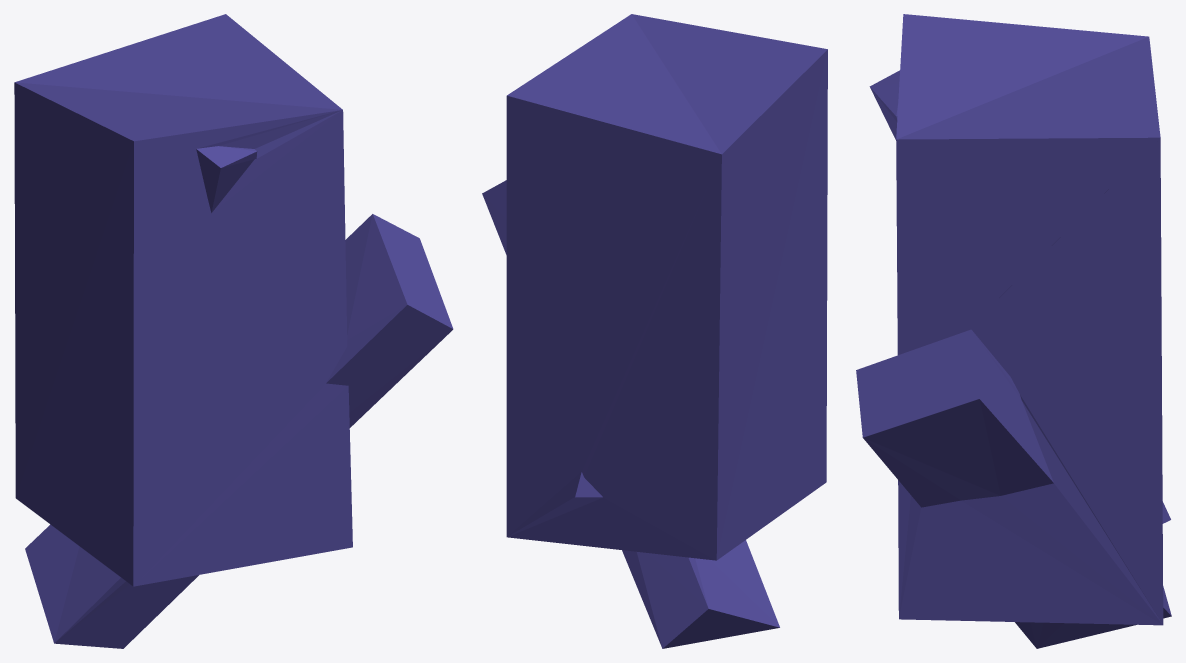
The picture shows the model from 3 angles, left to right: view 1: azimuth 30°, elevation 25°; view 2: azimuth 150°, elevation 25°; view 3: azimuth 270°, elevation 25°; orthographic projection. The views are drawn at different scales.
Visible parts, largest first — view 1: 213_Cube.879; view 2: 213_Cube.879; view 3: 213_Cube.879.
Part boxes in pixels (x1=…): 213_Cube.879: x1=14, y1=14, x2=453, y2=648; 213_Cube.879: x1=482, y1=14, x2=827, y2=648; 213_Cube.879: x1=856, y1=14, x2=1171, y2=648.
Size of the model in its own units: 9.51 by 15.27 by 7.19.
